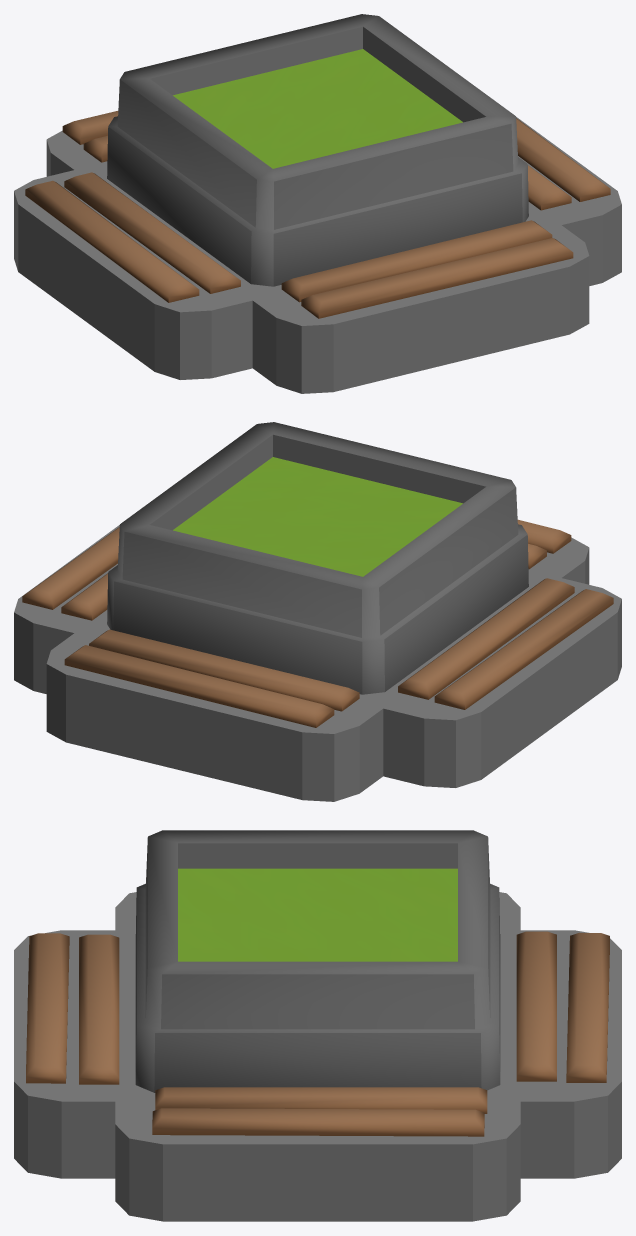
File: Bench_park.fbx
3 views of the same model, one above another, from view 1: azimuth 30°, elevation 25°; view 2: azimuth 150°, elevation 25°; view 3: azimuth 270°, elevation 25° (orthographic). The views are drawn at different scales.
Visible parts, largest first — view 1: Bench_2C_Flowers; view 2: Bench_2C_Flowers; view 3: Bench_2C_Flowers.
Part boxes in pixels (x1=…): Bench_2C_Flowers: x1=14, y1=14, x2=621, y2=393; Bench_2C_Flowers: x1=14, y1=422, x2=621, y2=801; Bench_2C_Flowers: x1=14, y1=830, x2=621, y2=1221.
Bounding box in the file's own units: 8548 × 2958 × 8548.
